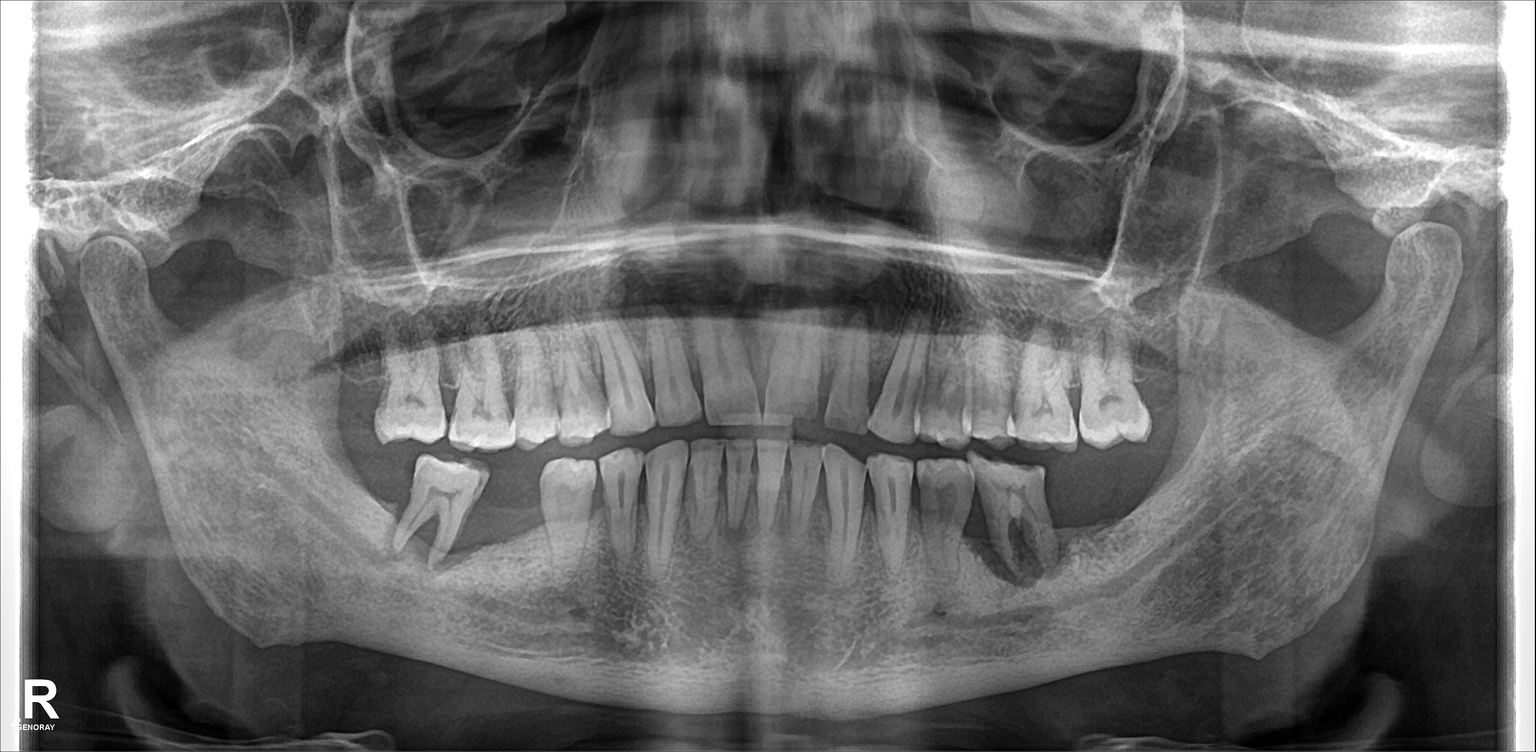Missing Tooth: (484, 467, 545, 567), (1060, 463, 1107, 570), (1119, 467, 1165, 560), (358, 456, 405, 545), (331, 329, 378, 413), (1143, 328, 1183, 407)
Periapical Lesion: (957, 488, 1056, 584), (402, 490, 542, 548)
